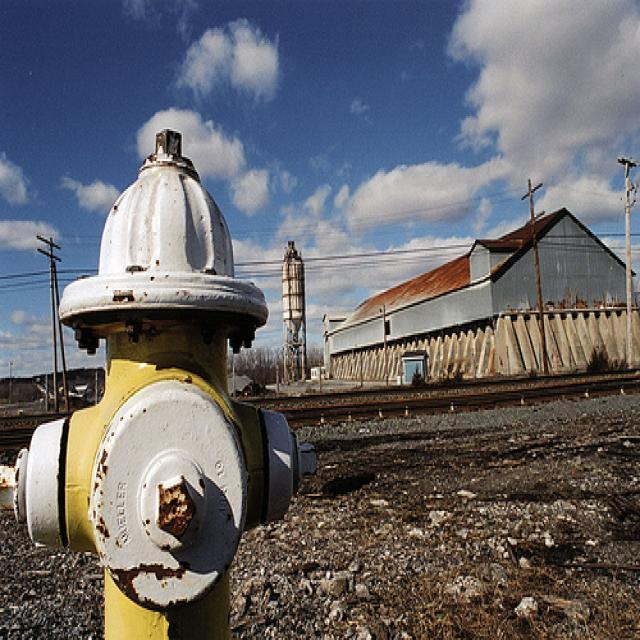fire_hydrant: (12, 129, 318, 631)
